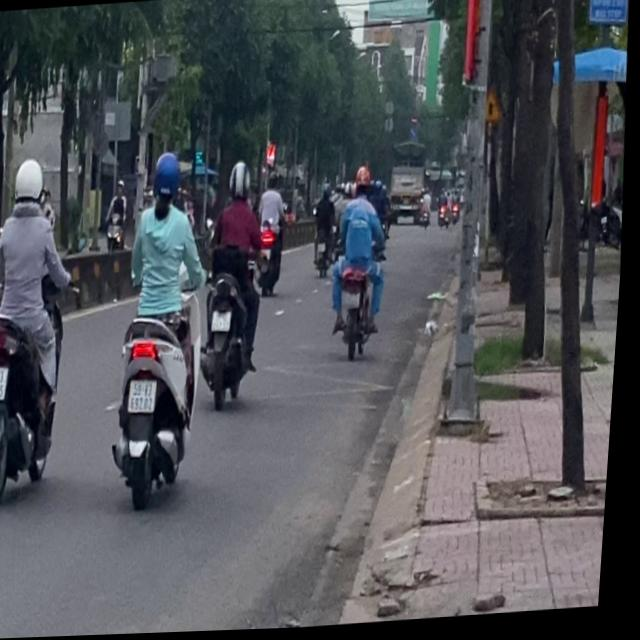helmet: (150, 150, 185, 210), (12, 156, 49, 211), (228, 160, 255, 204), (355, 169, 374, 200)
licenseplate: (101, 145, 222, 515), (0, 150, 86, 506), (196, 158, 276, 411), (326, 165, 401, 367)
nohelmet: (132, 380, 161, 414), (0, 365, 13, 399), (215, 311, 235, 332)
